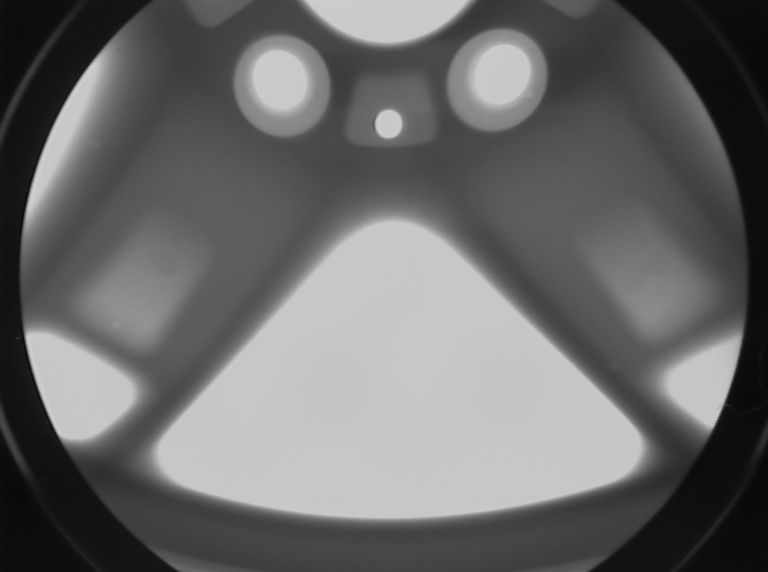defect: (601, 357, 625, 377)
